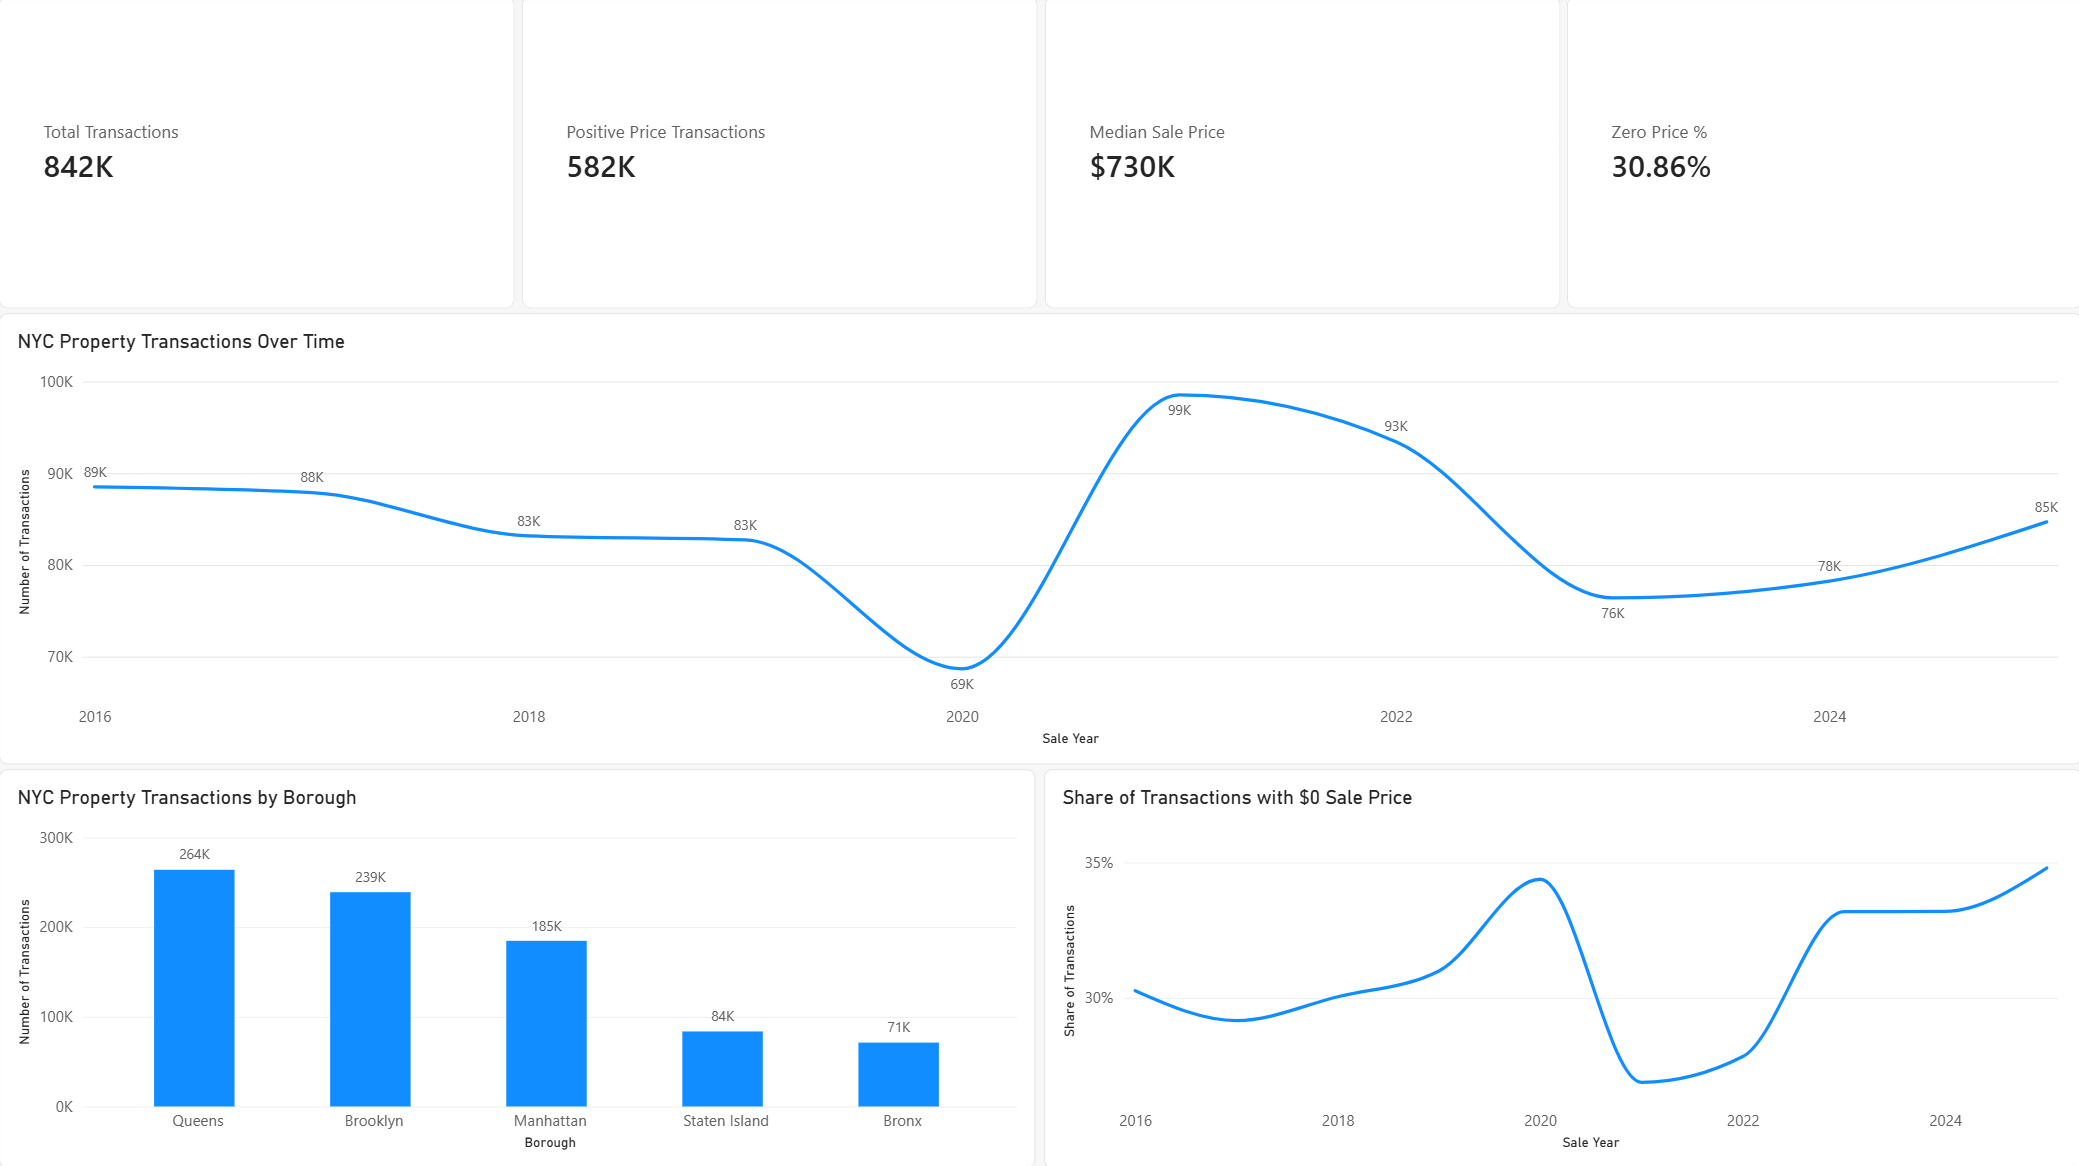

Layout of this report page (visuals, bound fields, positions):
{"tool":"powerbi","page":{"name":"Market Overview","canvas":[1920,1080],"ordinal":0},"visuals":[{"type":"cardVisual","fields":{"Data":["nyc_sales_property_cleaned.Total Transactions"]},"box":[0,0,475,288],"z":0},{"type":"clusteredColumnChart","title":"NYC Property Transactions by Borough","fields":{"Category":["nyc_sales_property_cleaned.Borough Name"],"Y":["nyc_sales_property_cleaned.Total Transactions"]},"box":[0,712,955,368],"z":0,"group":"g1"},{"type":"lineChart","title":"NYC Property Transactions Over Time","fields":{"Category":["nyc_sales_property_cleaned.SALE DATE.Variation.Date Hierarchy.Year"],"Y":["nyc_sales_property_cleaned.Total Transactions"]},"box":[0,292,1920,416],"z":1000},{"type":"lineChart","title":"Share of Transactions with $0 Sale Price","fields":{"Category":["nyc_sales_property_cleaned.SALE DATE.Variation.Date Hierarchy.Year"],"Y":["nyc_sales_property_cleaned.Zero Price %"]},"box":[960,712,955,368],"z":1000,"group":"g1"},{"type":"cardVisual","fields":{"Data":["nyc_sales_property_cleaned.Positive Price Transactions"]},"box":[480,0,475,288],"z":2000},{"type":"cardVisual","fields":{"Data":["nyc_sales_property_cleaned.Median Sale Price"]},"box":[960,0,475,288],"z":3000},{"type":"group","id":"g1","title":"Group 2","box":[0,712,1915,368],"z":4000},{"type":"cardVisual","fields":{"Data":["nyc_sales_property_cleaned.Zero Price %"]},"box":[1440,0,475,288],"z":5000}]}

Visuals, with their boxes in screenshot pixels (x1, y1, x2, y2), scaled from the page's 1920x1080 canvas onto the 2079x1166 screenshot:
cardVisual - nyc_sales_property_cleaned.Total Transactions: (0, 0, 514, 311)
"NYC Property Transactions by Borough" clusteredColumnChart: (0, 769, 1034, 1165)
"NYC Property Transactions Over Time" lineChart: (0, 315, 2078, 764)
"Share of Transactions with $0 Sale Price" lineChart: (1040, 769, 2074, 1165)
cardVisual - nyc_sales_property_cleaned.Positive Price Transactions: (520, 0, 1034, 311)
cardVisual - nyc_sales_property_cleaned.Median Sale Price: (1040, 0, 1554, 311)
"Group 2" group: (0, 769, 2074, 1165)
cardVisual - nyc_sales_property_cleaned.Zero Price %: (1559, 0, 2074, 311)
